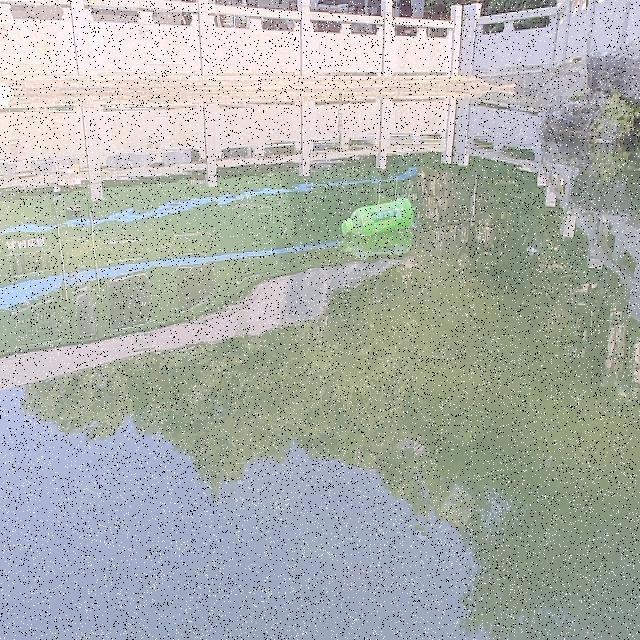bottle: (336, 193, 416, 239)
